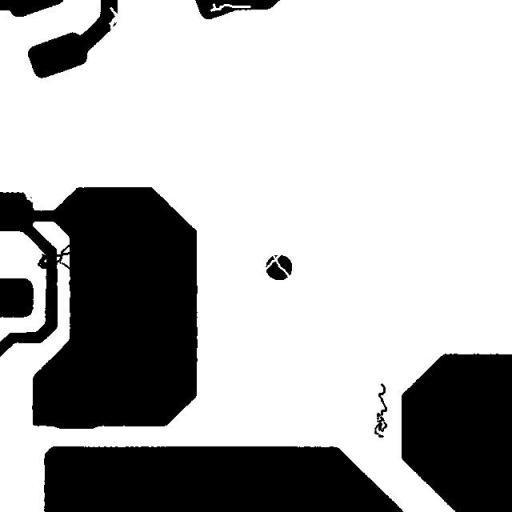copper: (366, 375, 394, 445)
mousebite: (101, 0, 129, 37), (16, 184, 43, 211)
open: (247, 242, 305, 291)
pin-hole: (202, 0, 258, 19)
short: (34, 237, 86, 280)
spur: (30, 246, 58, 276)
